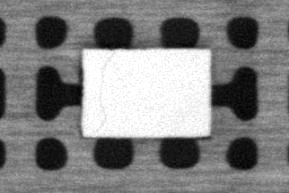DIE_CRACK: (94, 50, 117, 130)
